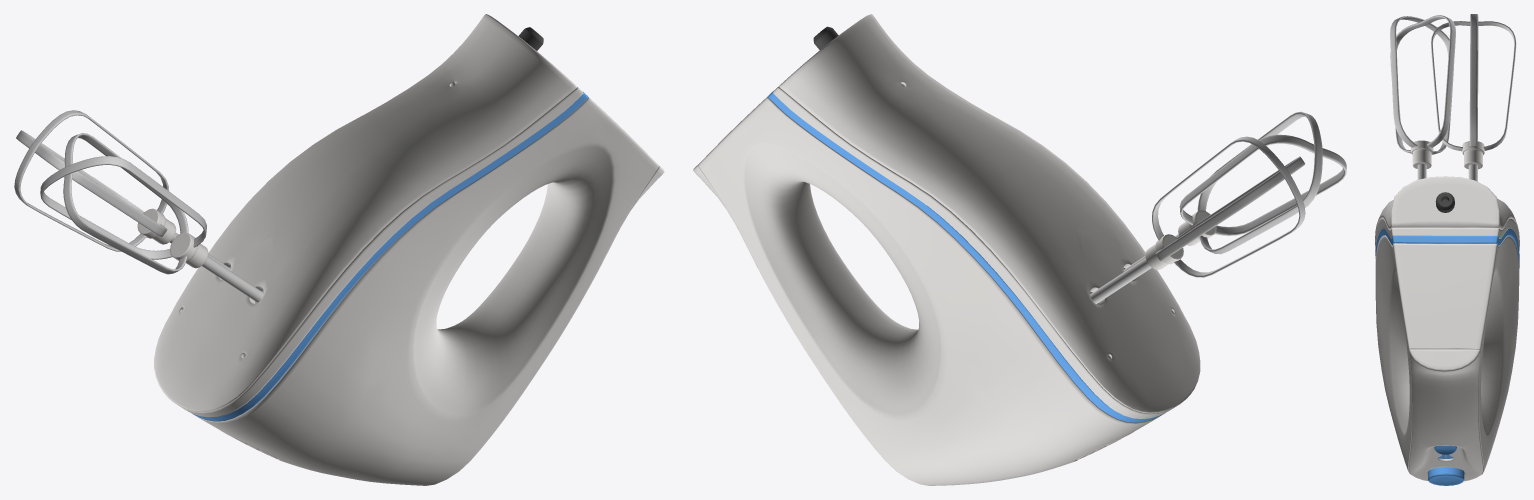
Rendered from mixer.fbx.
The picture shows the model from 3 angles, left to right: view 1: azimuth 30°, elevation 25°; view 2: azimuth 150°, elevation 25°; view 3: azimuth 270°, elevation 25°; orthographic projection. The views are drawn at different scales.
Visible parts, largest first — view 1: 11641_Hand Mixer_V3_l2; view 2: 11641_Hand Mixer_V3_l2; view 3: 11641_Hand Mixer_V3_l2.
Boxes of the visible parts, <box> form: 11641_Hand Mixer_V3_l2: <box>14,14,664,485</box>; 11641_Hand Mixer_V3_l2: <box>693,14,1346,485</box>; 11641_Hand Mixer_V3_l2: <box>1375,14,1519,485</box>.
Bounding box in the file's own units: 2120 × 1424 × 547.
